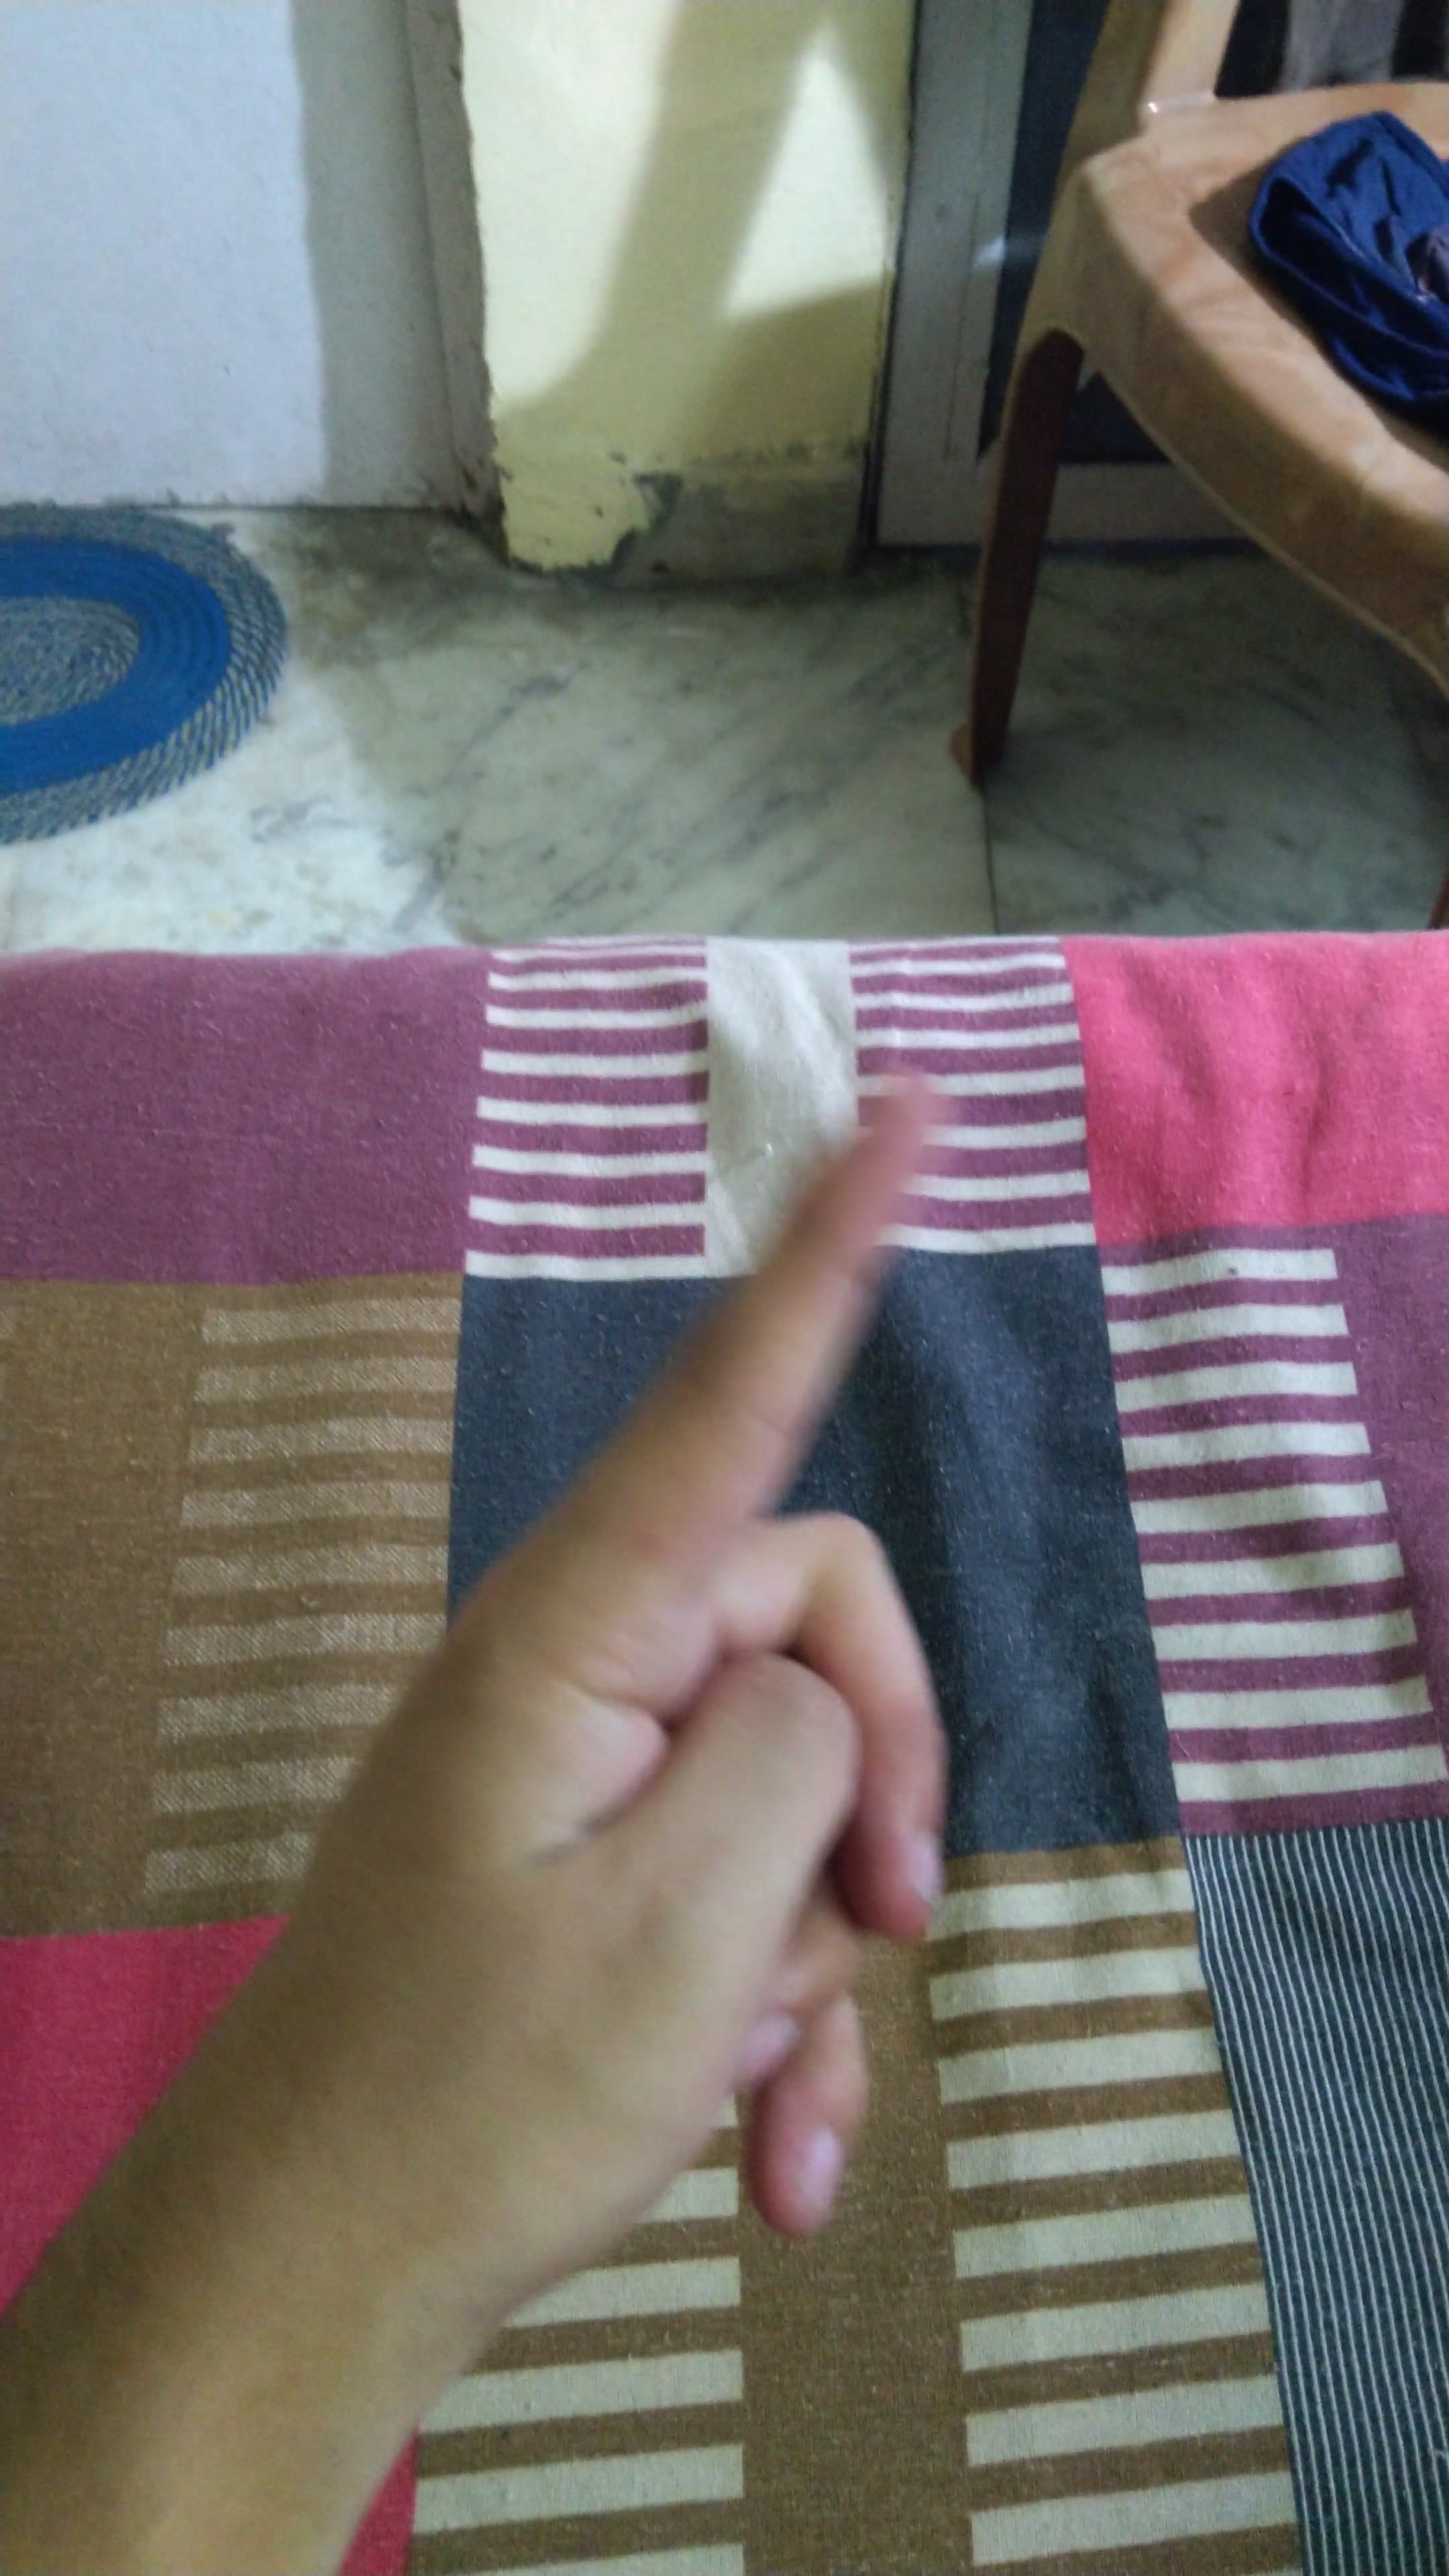hand: (108, 1069, 1145, 2376)
